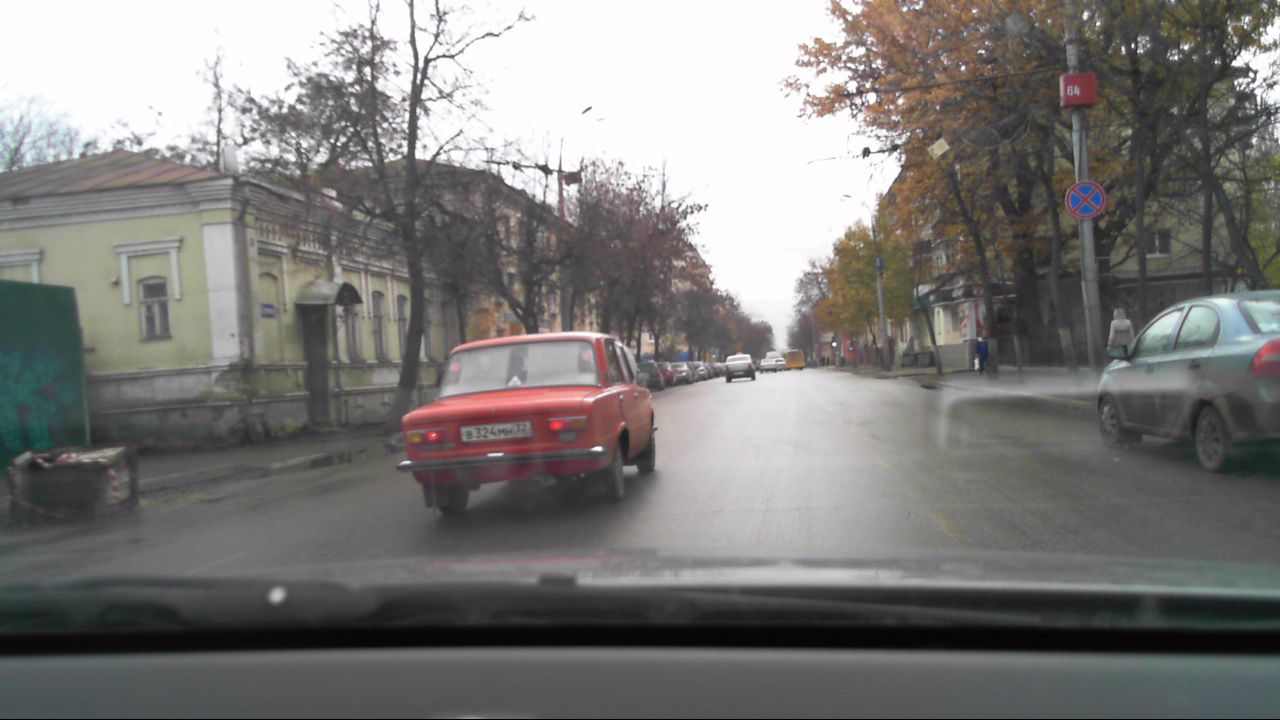No Parking: (1063, 177, 1108, 222)
